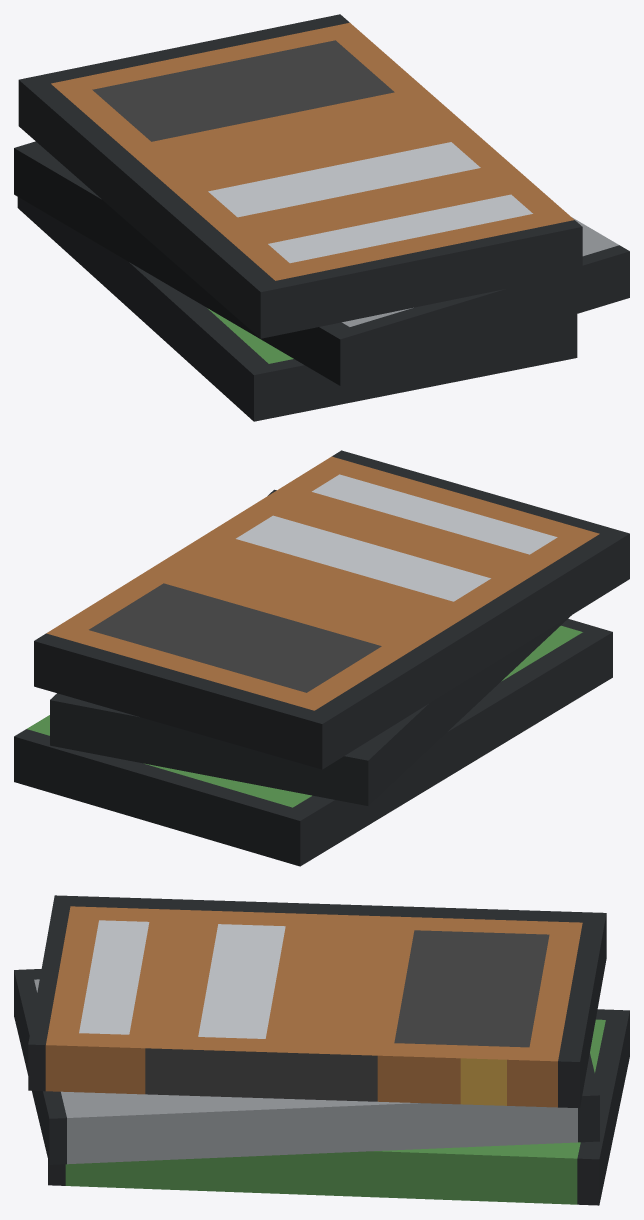
Rendered from SM_Prop_DVDStack_01.fbx.
3 renders of one model, top to bottom at view 1: azimuth 30°, elevation 25°; view 2: azimuth 150°, elevation 25°; view 3: azimuth 270°, elevation 25°, orthographic. The views are drawn at different scales.
Parts seen in each view (by area): view 1: SM_Prop_DVDStack_01; view 2: SM_Prop_DVDStack_01; view 3: SM_Prop_DVDStack_01.
Part boxes in pixels (x1,y1,x2,y2): SM_Prop_DVDStack_01: [14, 14, 629, 421]; SM_Prop_DVDStack_01: [14, 450, 629, 866]; SM_Prop_DVDStack_01: [14, 895, 629, 1205].
Size of the model in its own units: 25.91 by 9.43 by 38.05.
